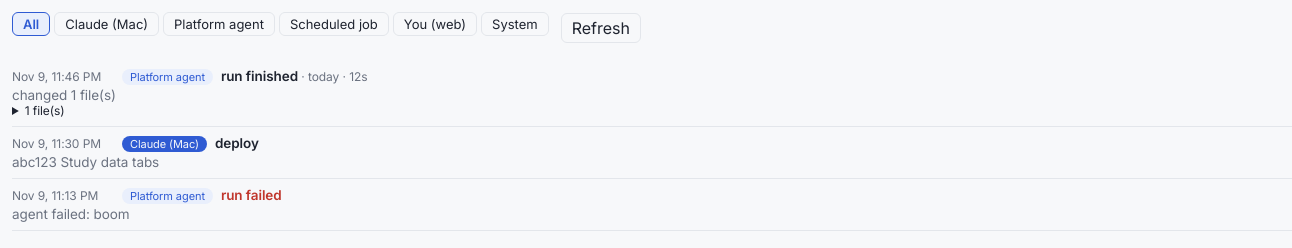
Test case: SystemLog › lists entries newest first and filters by actor
The image size is (1292, 248).
Expected: the text "abc123 Study data tabs" is shown, [12,154,159,170]
Expected: the heading "1 file(s)" is shown, [25,103,65,118]
Click the tab "Claude (Mac)" at (107, 24), box [54,12,159,36]
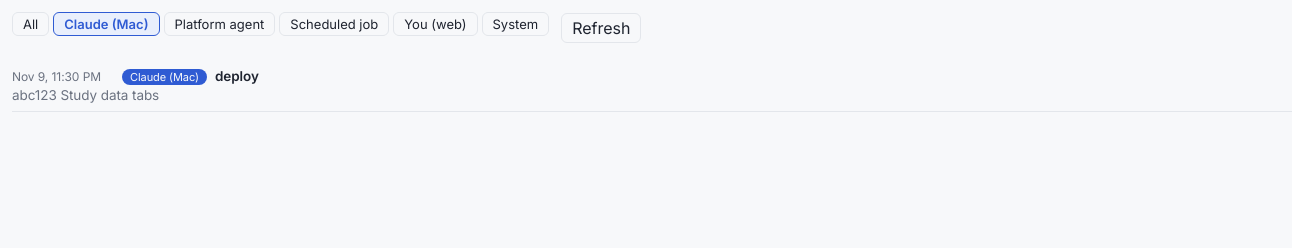
Expected: the text "deploy" is shown, [215,68,259,84]
Now the text "agent failed: boom" is gone
